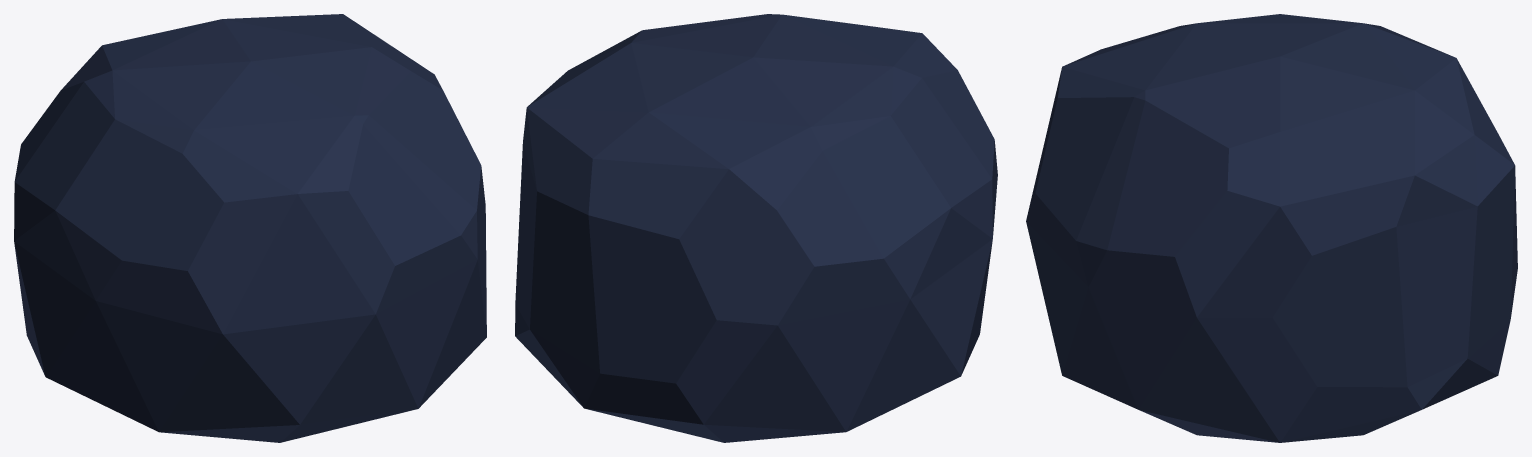
File: Piedra.fbx
3 views of the same model, side by side, from view 1: azimuth 30°, elevation 25°; view 2: azimuth 150°, elevation 25°; view 3: azimuth 270°, elevation 25° (orthographic).
Parts seen in each view (by area): view 1: Piedra; view 2: Piedra; view 3: Piedra.
Boxes of the visible parts, box(x1,y1,x2,y2) form: Piedra: box(14, 14, 486, 442); Piedra: box(515, 14, 997, 442); Piedra: box(1026, 14, 1517, 442).
Bounding box in the file's own units: 134 × 138 × 106.
1 material, 1 textured.
